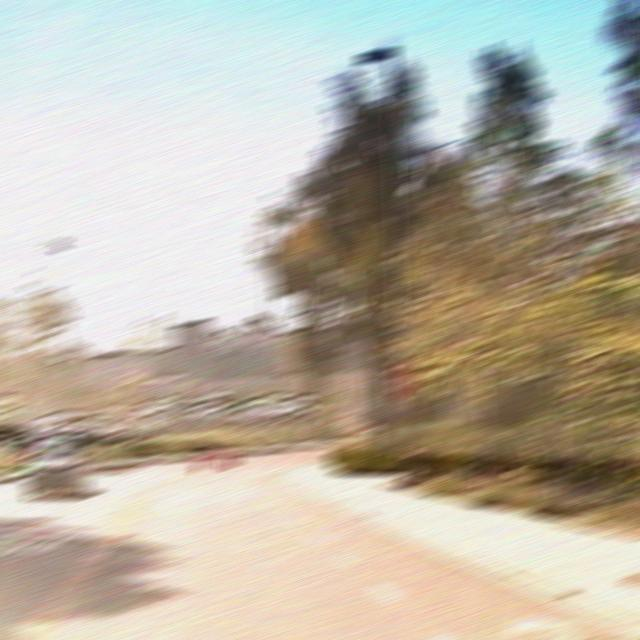stop_sign: (386, 362, 419, 399)
